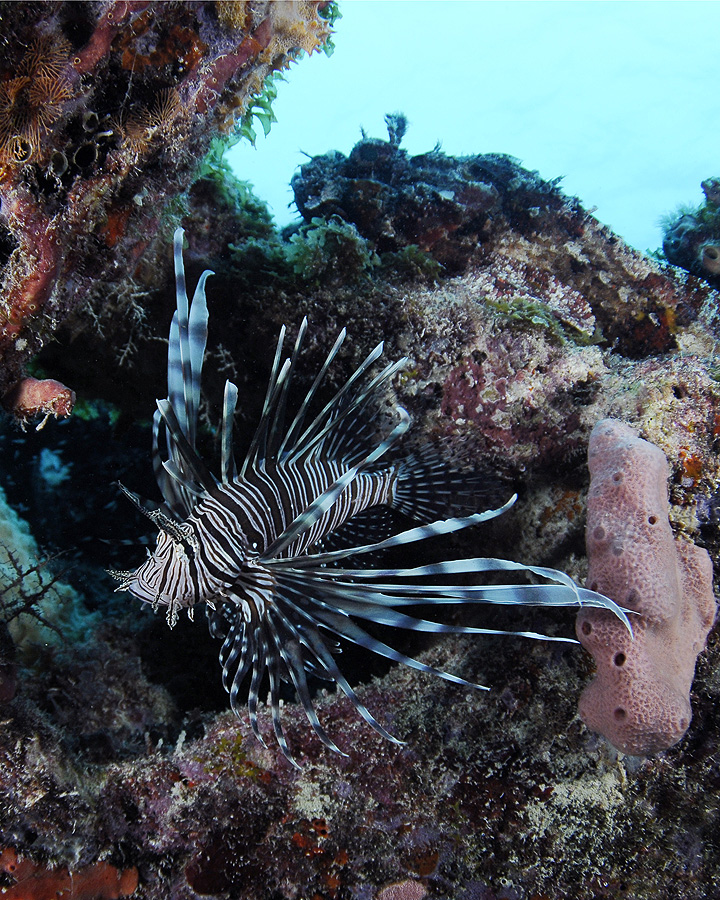Pterois_volitans: (85, 237, 569, 760)
